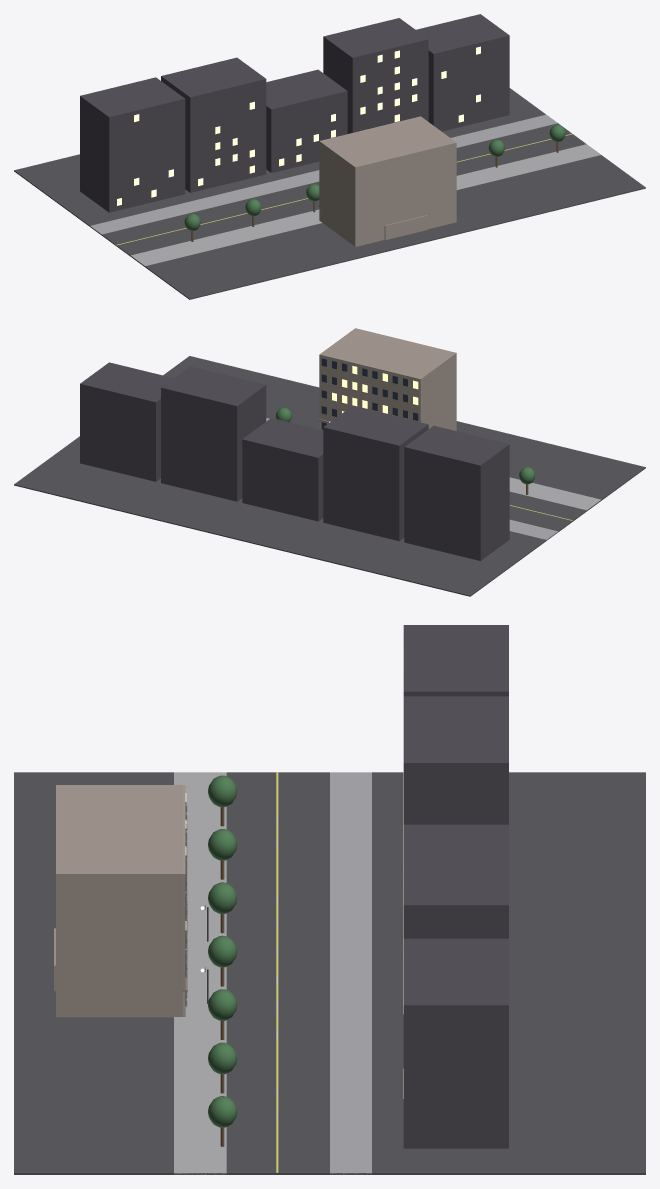
File: world.glb
3 renders of one model, top to bottom at view 1: azimuth 30°, elevation 25°; view 2: azimuth 150°, elevation 25°; view 3: azimuth 270°, elevation 25°, orthographic. The views are drawn at different scales.
Visible parts, largest first — view 1: Far, Street, Mass; view 2: Far, Street, Mass, Facade; view 3: Street, Far, Mass, Facade.
Boxes of the visible parts, box(x1,y1,x2,y2) form: Far: box(80, 14, 509, 212); Street: box(14, 88, 645, 299); Mass: box(320, 117, 456, 246); Far: box(80, 362, 509, 560); Street: box(14, 356, 645, 596); Mass: box(320, 328, 456, 430); Facade: box(318, 354, 421, 430); Street: box(14, 772, 645, 1174); Far: box(403, 625, 508, 1148); Mass: box(54, 785, 182, 1017); Facade: box(182, 785, 187, 1016).
Size of the model in its own units: 90 by 18.2 by 60.
